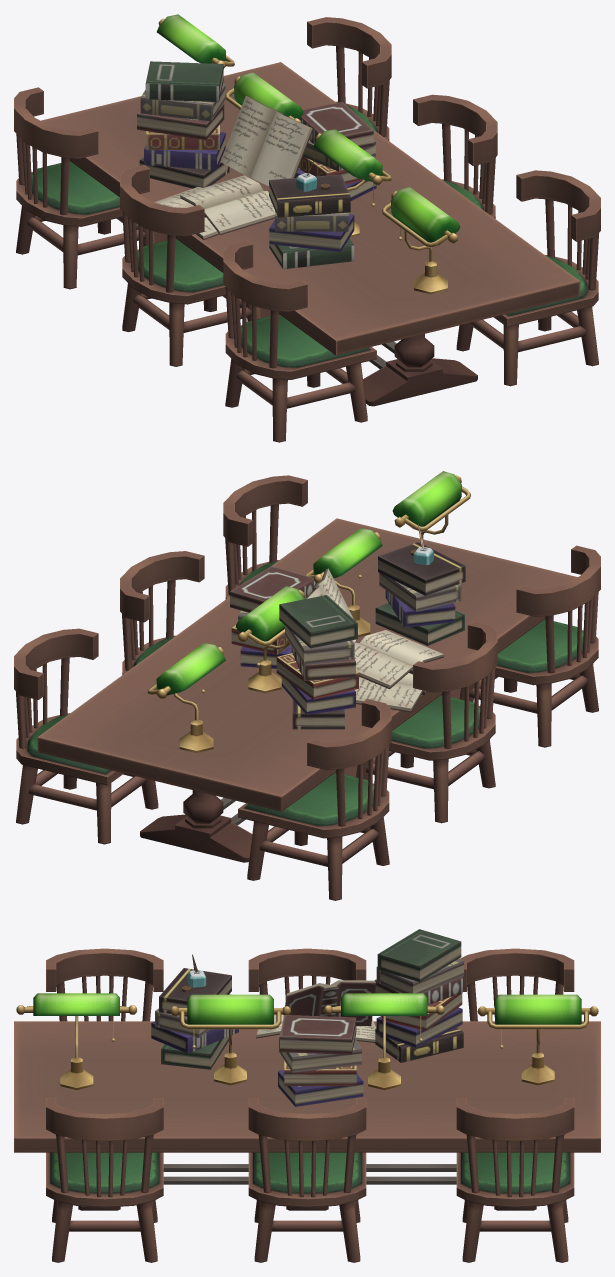
File: my_wildhunt_01_table_03.glb
3 renders of one model, top to bottom at view 1: azimuth 30°, elevation 25°; view 2: azimuth 150°, elevation 25°; view 3: azimuth 270°, elevation 25°, orthographic.
Visible parts, largest first — view 1: my_wildhunt_01_table_03.001, my_wildhunt_01_table_03_book.001; view 2: my_wildhunt_01_table_03.001, my_wildhunt_01_table_03_book.001; view 3: my_wildhunt_01_table_03.001, my_wildhunt_01_table_03_book.001.
Boxes of the visible parts, box(x1,y1,x2,y2) form: my_wildhunt_01_table_03.001: box(14, 14, 600, 442); my_wildhunt_01_table_03_book.001: box(137, 61, 376, 269); my_wildhunt_01_table_03.001: box(14, 471, 600, 900); my_wildhunt_01_table_03_book.001: box(230, 524, 465, 729); my_wildhunt_01_table_03.001: box(14, 948, 600, 1262); my_wildhunt_01_table_03_book.001: box(151, 929, 463, 1106).
Size of the model in its own units: 0.0119 by 0.00673 by 0.0174.
3 materials, 3 textured.
